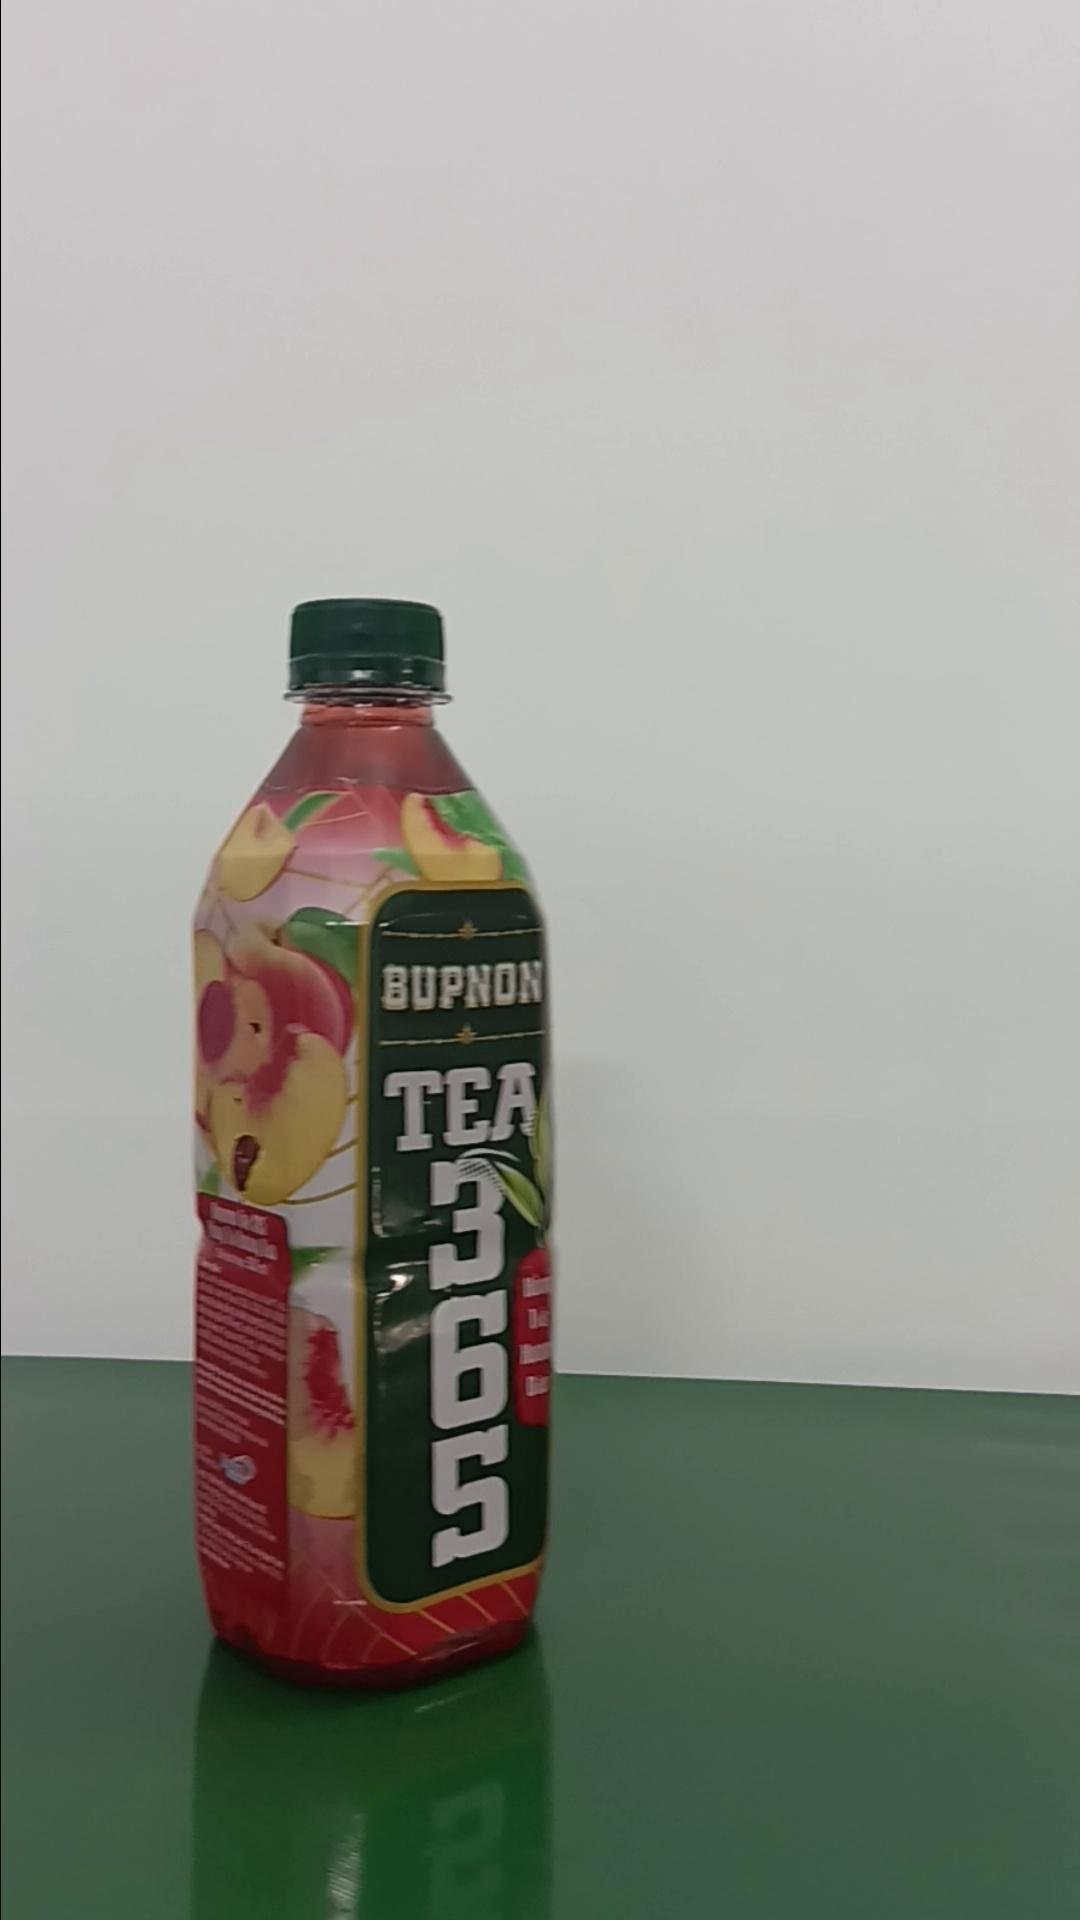loi rach va lap chai: (185, 587, 563, 1708)
